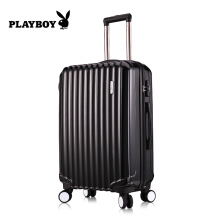luggage: (55, 12, 155, 205)
